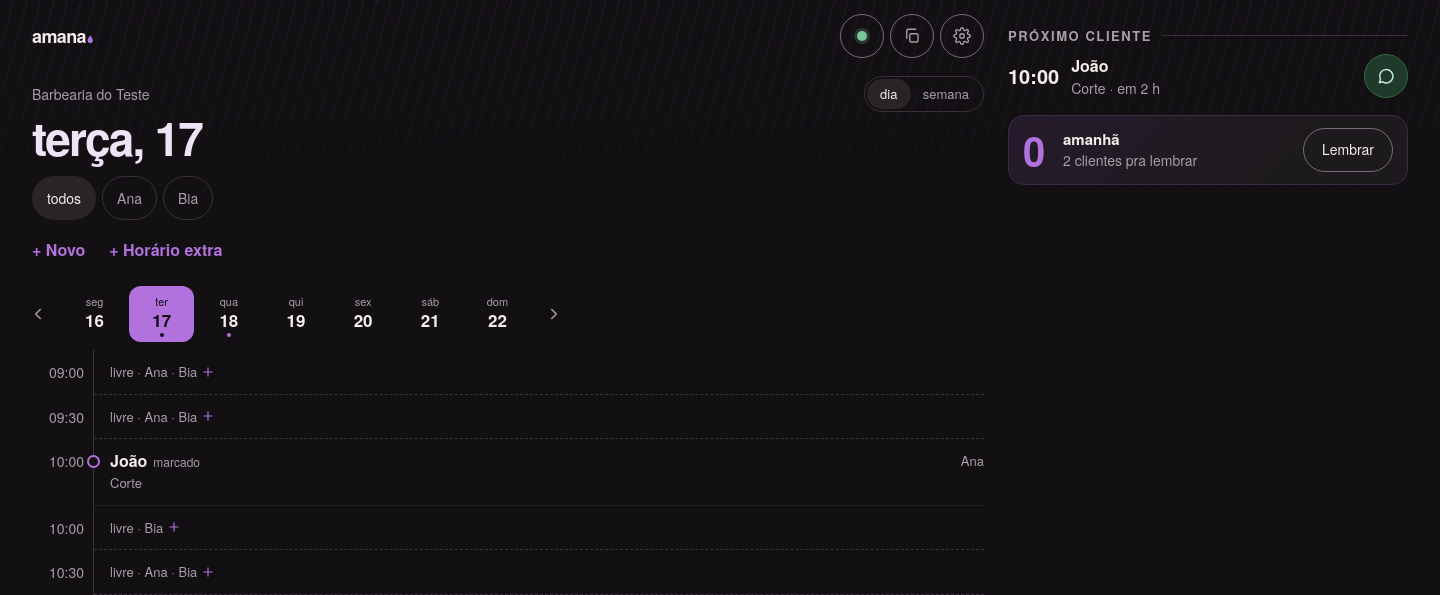
Scenario: Agenda com duas pessoas › Amanhã segue o filtro
The width and height of the screenshot is (1440, 595).
Expected: the text "2 clientes pra lembrar" is shown, [1063,150,1197,170]
Click the button "Ana": (130, 198) [102,176,157,220]
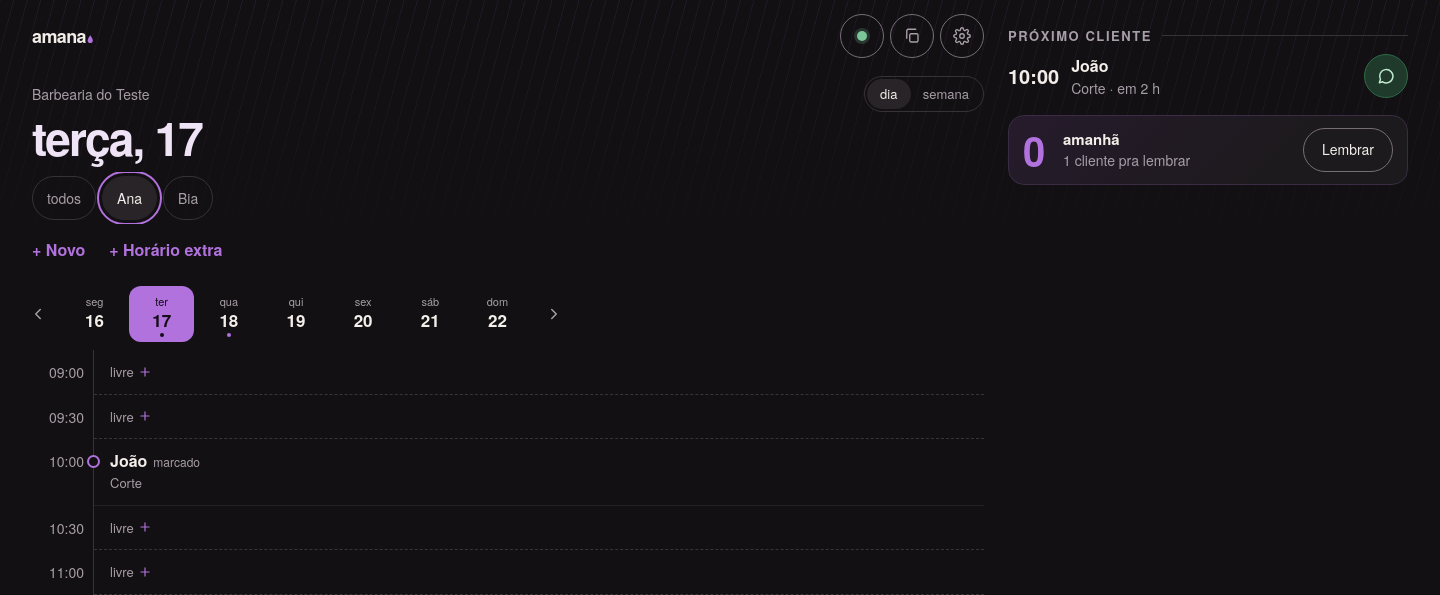
Expected: the text "1 cliente pra lembrar" is shown, [1063,150,1190,170]
